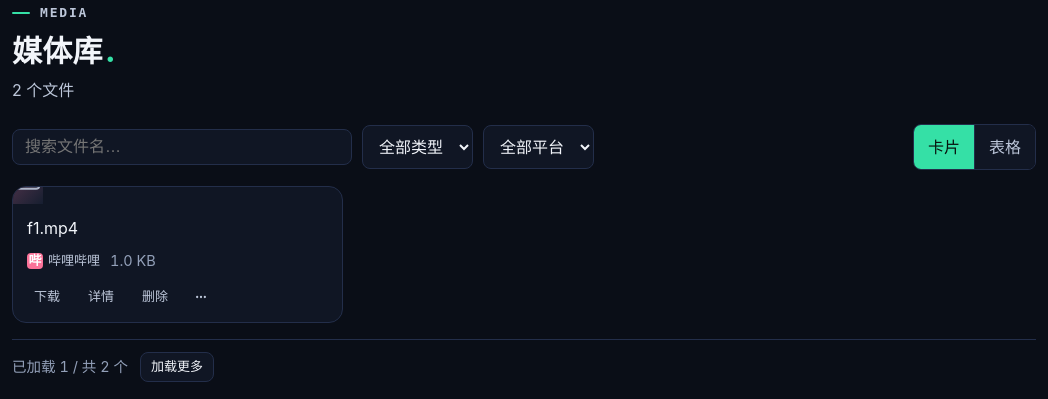
Test: Media 视图 › 文件超过一页时能继续加载：加载更多带 offset，列表变长
The width and height of the screenshot is (1048, 399).
expect the number of list items with class "file-card" is 1: met, box [12,186,343,323]
Click the button "加载更多": (177, 366) [140,352,214,382]
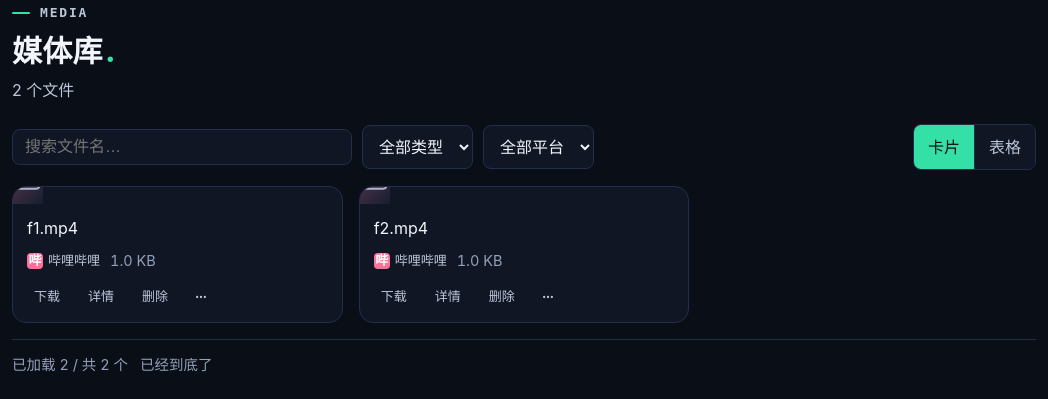
expect the number of list items with class "file-card" is 2: met, box [12,186,343,323]; [359,186,689,323]
expect the text "已经到底了" is shown: met, box [140,352,212,377]
